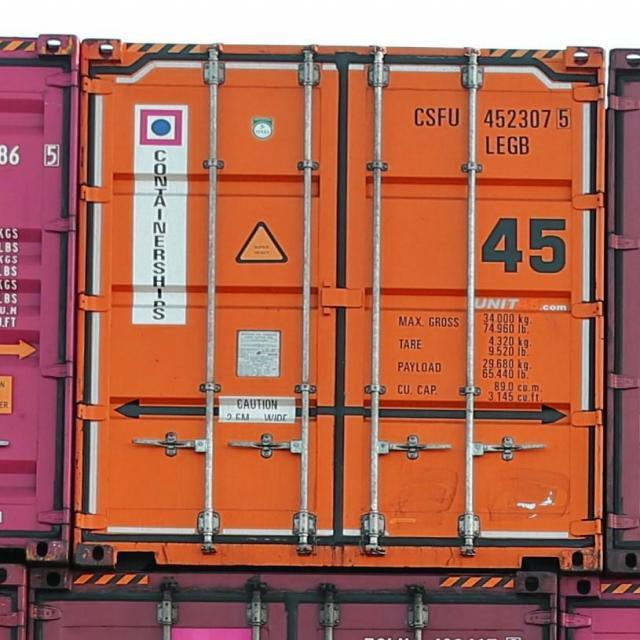ISO: (484, 134, 534, 155)
container_number: (412, 106, 570, 130)
